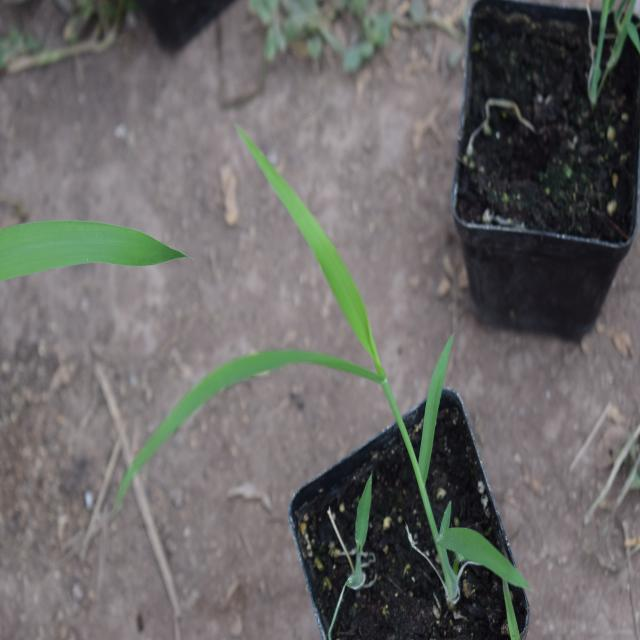crabgrass: (141, 132, 487, 564)
